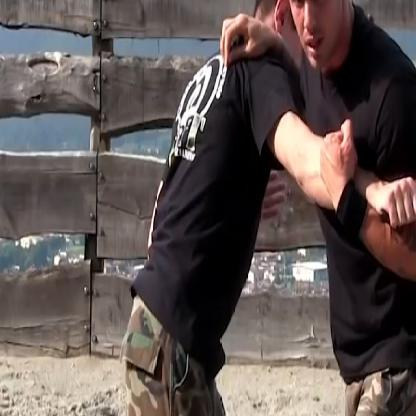knife: (371, 161, 415, 232)
